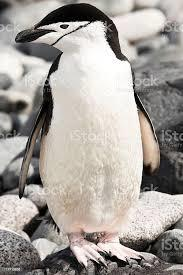chinstrap: (7, 0, 171, 272)
